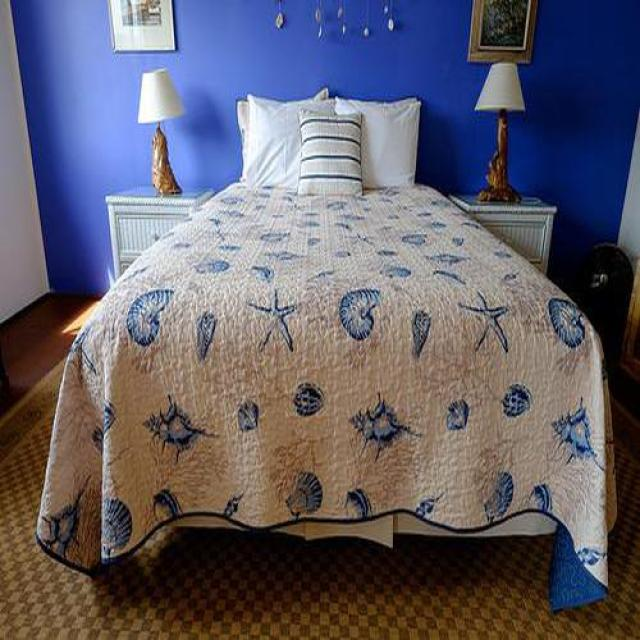bed: (33, 92, 614, 616)
